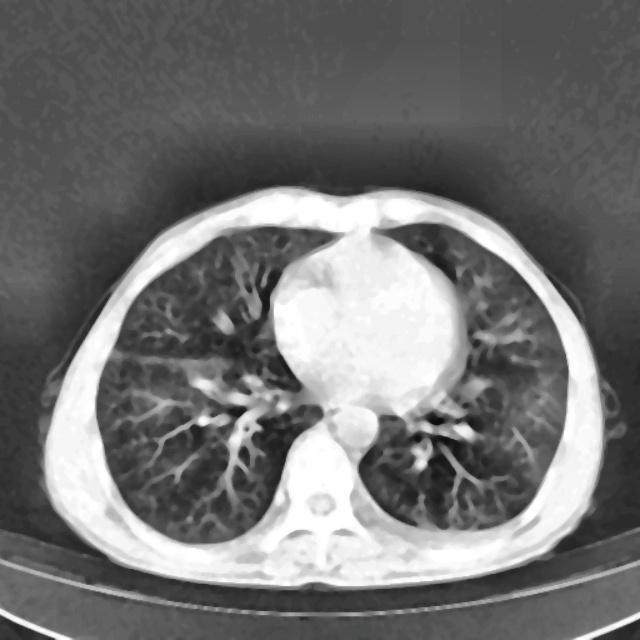covid: (38, 184, 613, 590)
